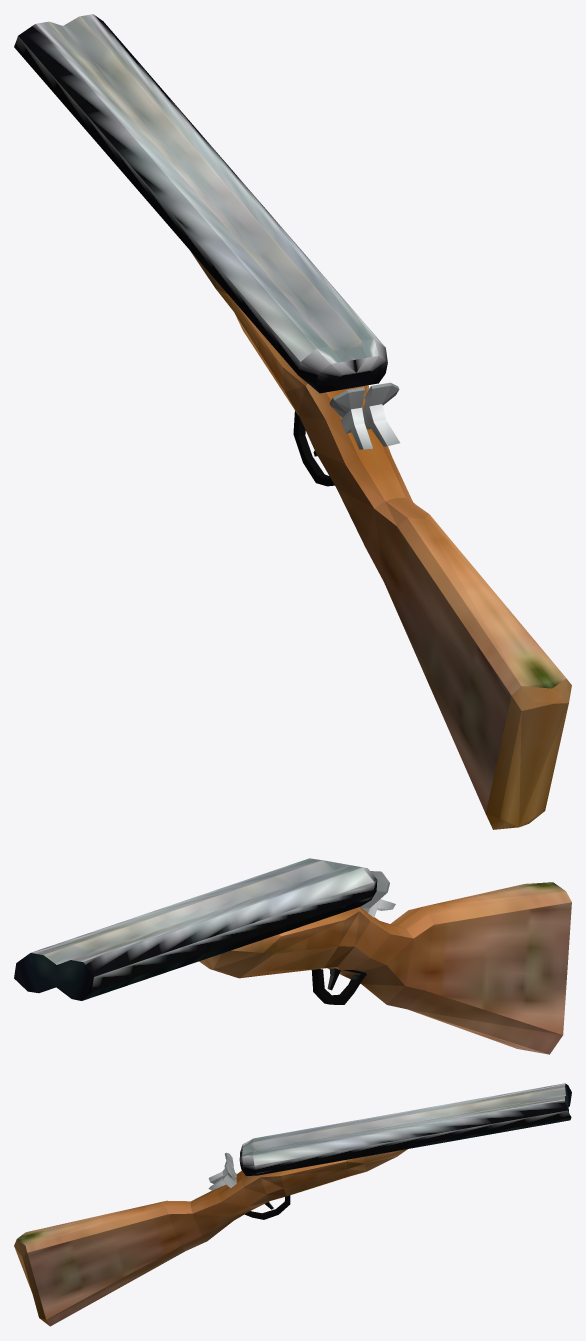
The model's file is shoot0015.obj.
The picture shows the model from 3 angles, top to bottom: view 1: azimuth 30°, elevation 25°; view 2: azimuth 150°, elevation 25°; view 3: azimuth 270°, elevation 25°; orthographic projection. The views are drawn at different scales.
Parts seen in each view (by area): view 1: Cube, Cube.001, Cube.003; view 2: Cube, Cube.001, Cube.002, Cube.003; view 3: Cube, Cube.001, Cube.003, Cube.002.
Boxes of the visible parts, x1,y1,x2,y2 form: Cube: (190, 251, 571, 829); Cube.001: (14, 14, 387, 393); Cube.003: (329, 382, 399, 449); Cube: (199, 882, 571, 1054); Cube.001: (14, 858, 377, 1000); Cube.002: (311, 968, 366, 1004); Cube.003: (360, 871, 395, 917); Cube: (14, 1149, 407, 1326); Cube.001: (239, 1083, 571, 1175); Cube.003: (208, 1152, 236, 1190); Cube.002: (245, 1195, 290, 1219).
Size of the model in its own units: 0.2552 by 1.04 by 2.18.
1 material, 1 textured.
